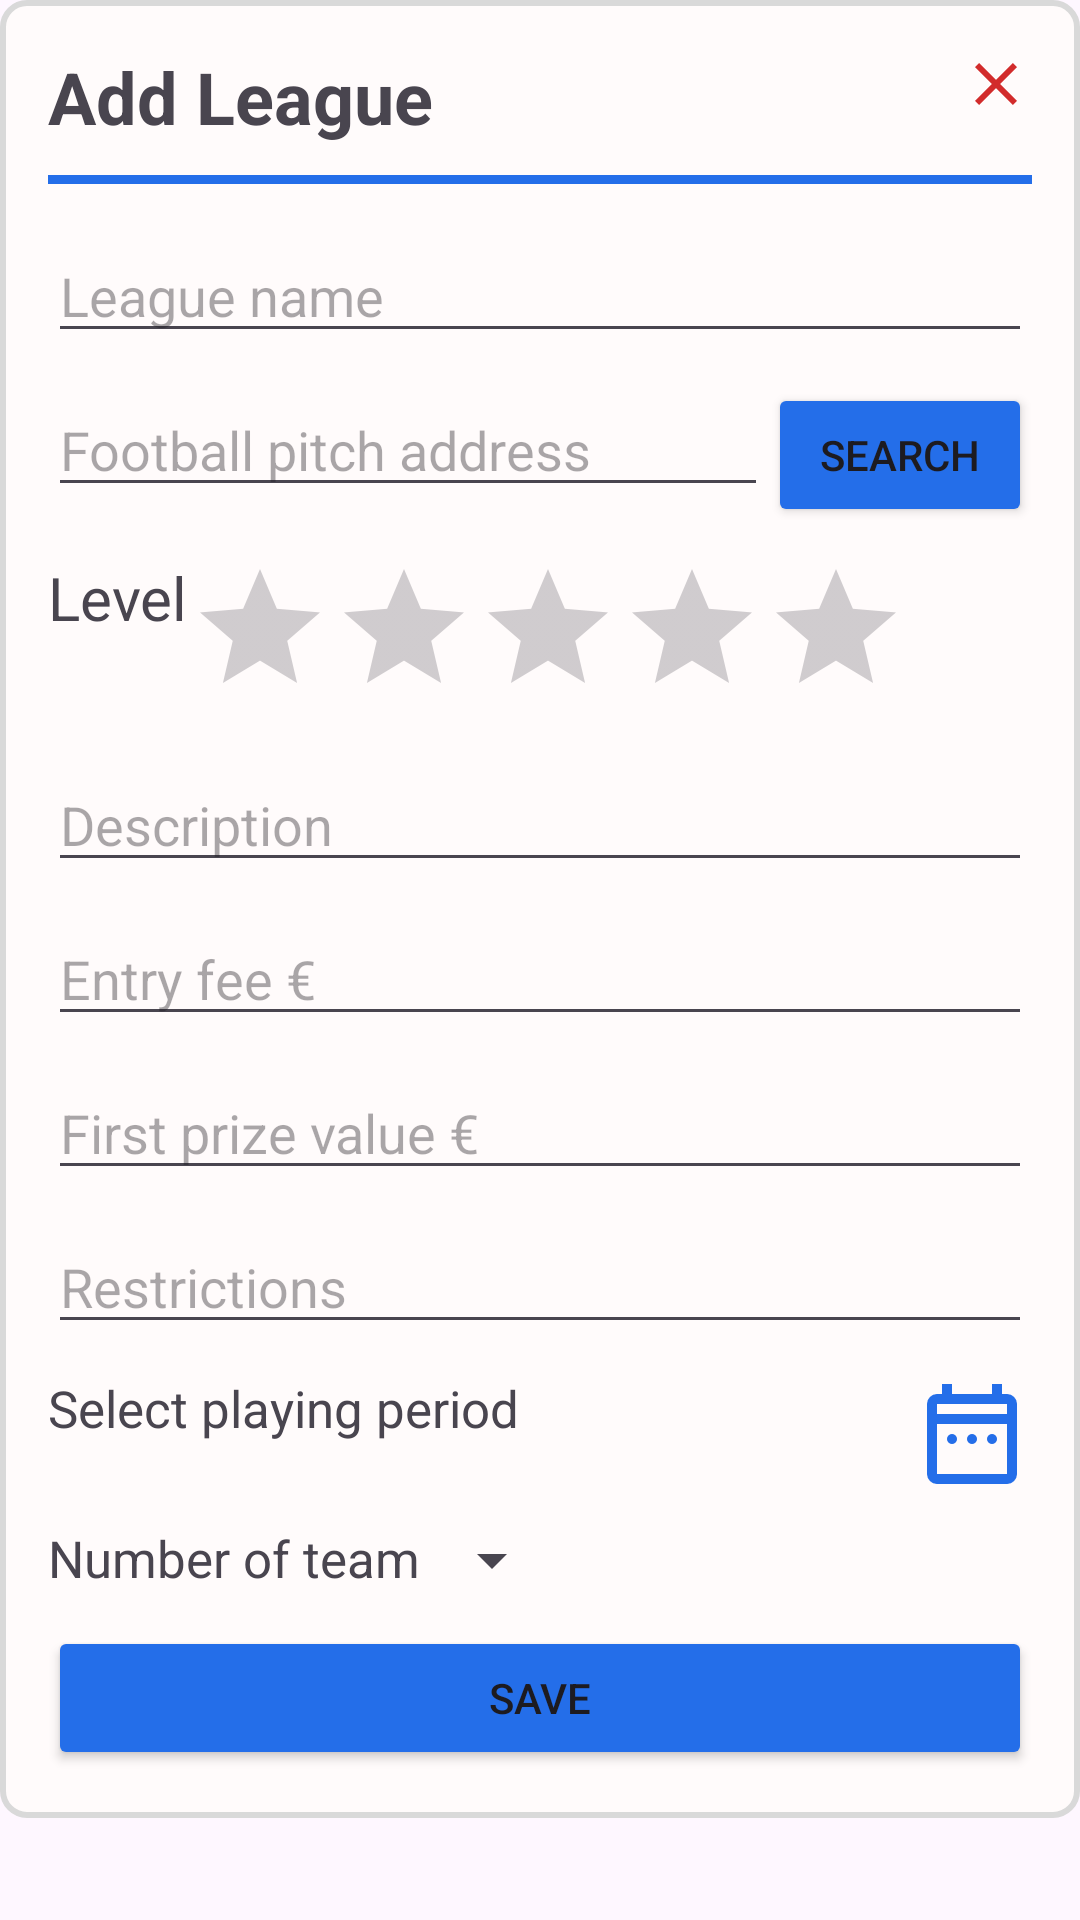

Icon click points for this 1080 × 1920 phone screenshot, format [x,y]:
close: [996,84]
date range: [972,1434]
